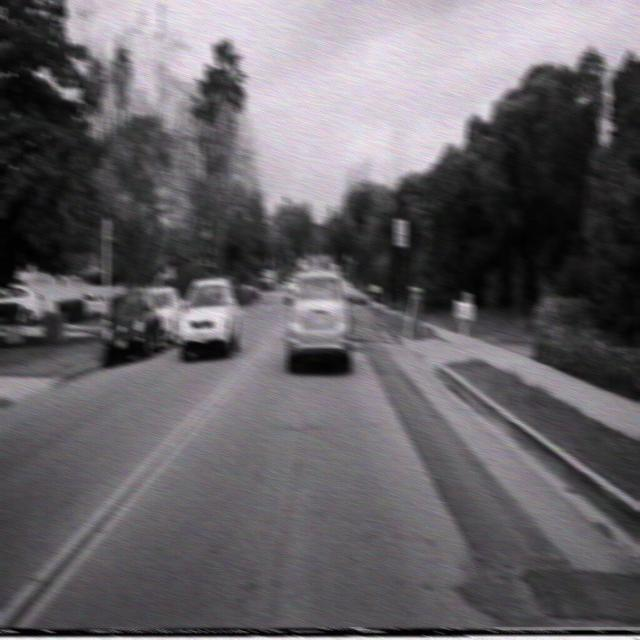speedLimit30: (394, 217, 408, 244)
